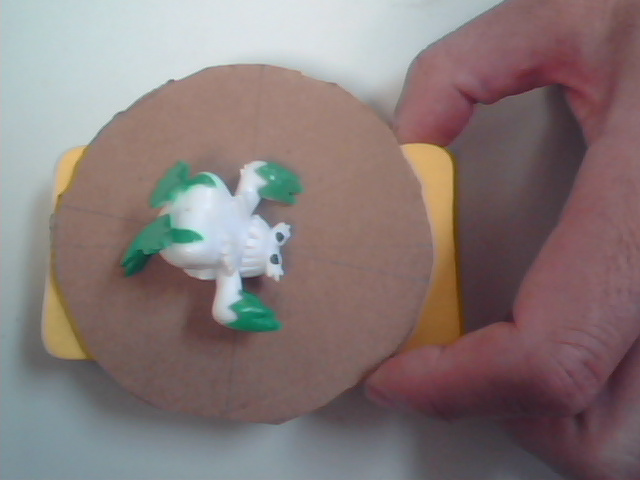abomasnow: (127, 144, 359, 370)
